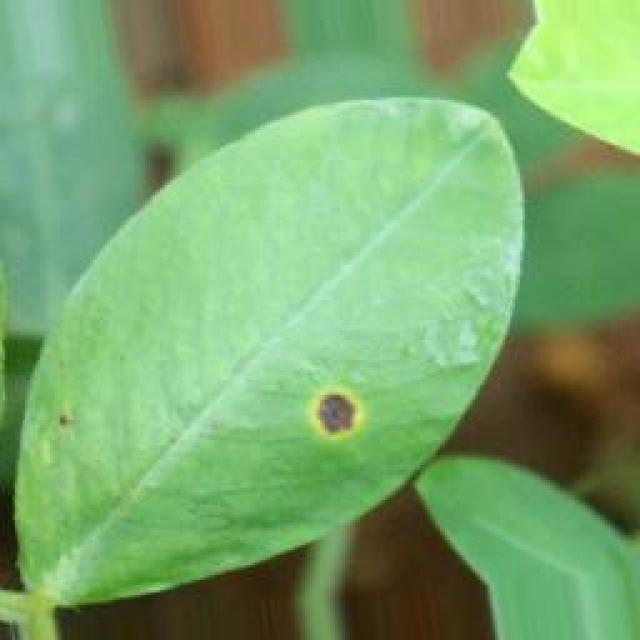Sigatoka: (282, 367, 400, 470), (40, 388, 109, 456)
